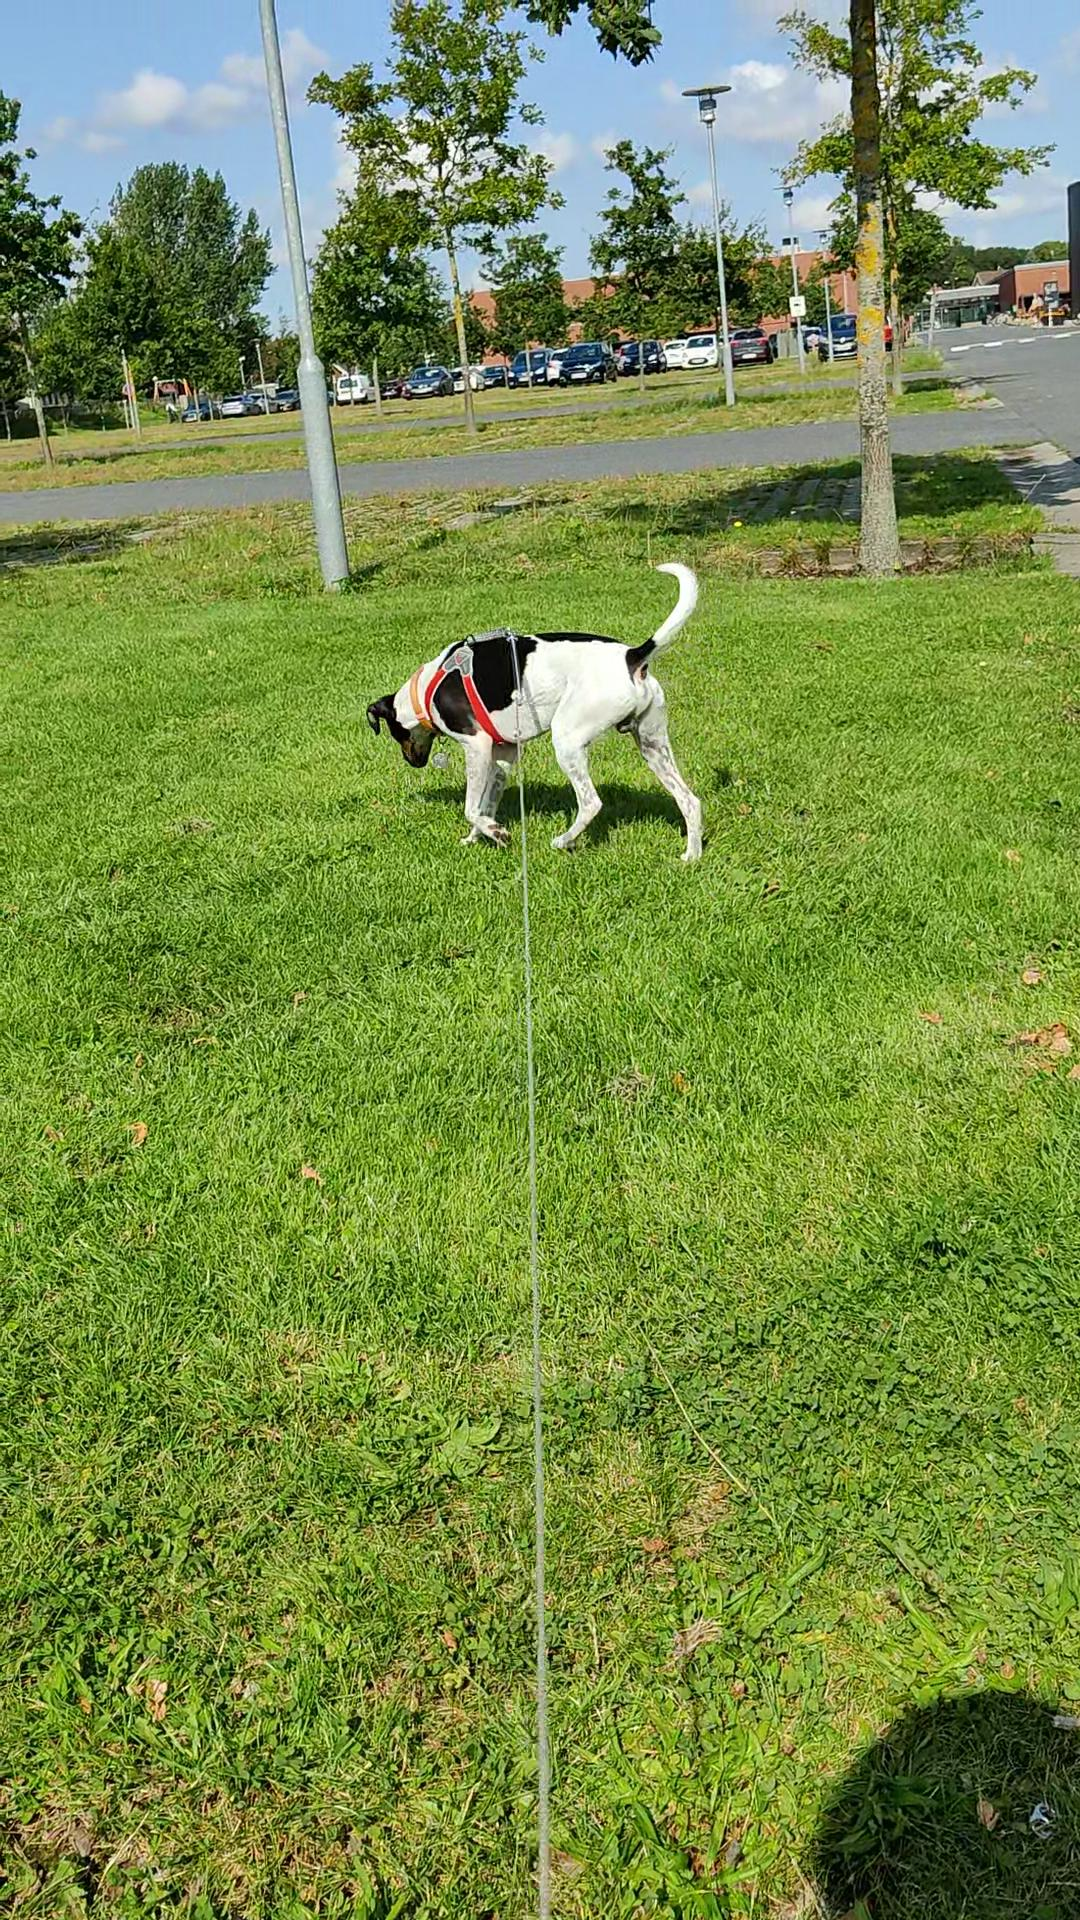Dog: (357, 556, 709, 865)
